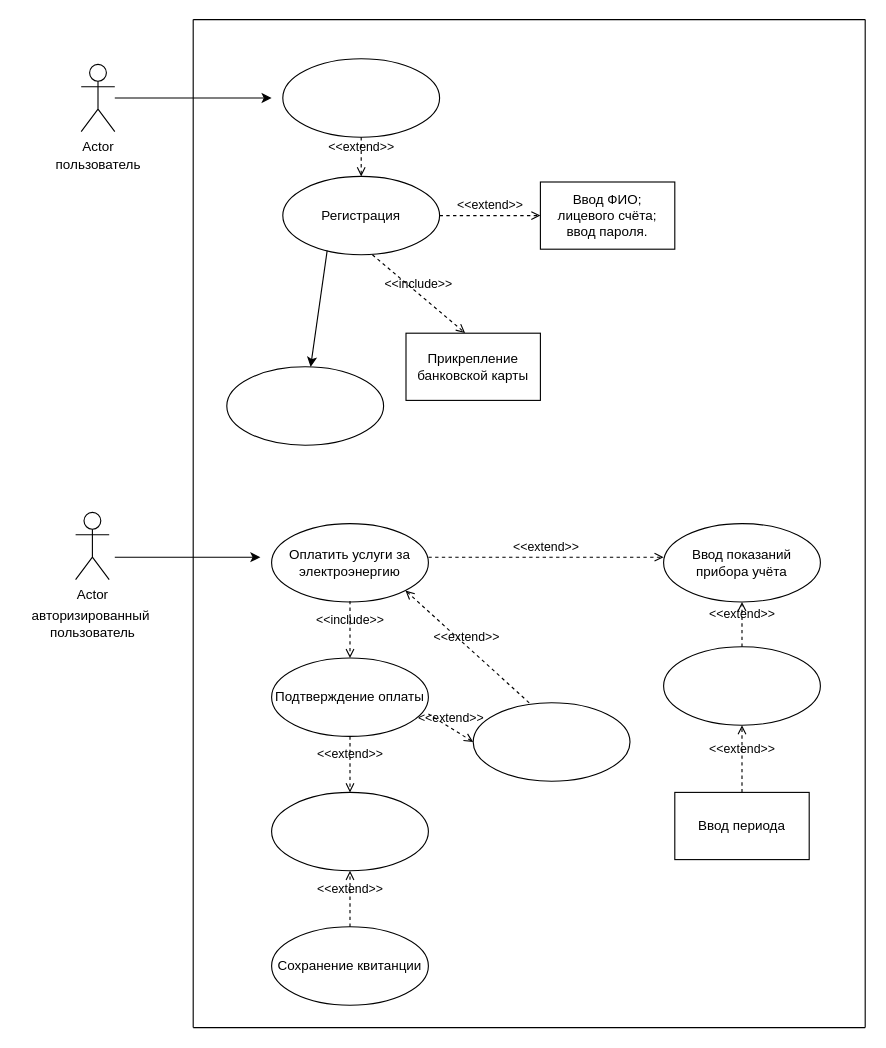
The diagram is 886 pixels wide and 1048 high, and some of its shapes have lost their labels. Each missing label, with the centre of its shape:
Авторизация: point (305, 405)
Ввод банковской карты: point (551, 741)
Генерация квитанции об оплате: point (349, 831)
Запрос отчёта: point (741, 685)
Установка приложения: point (361, 97)
